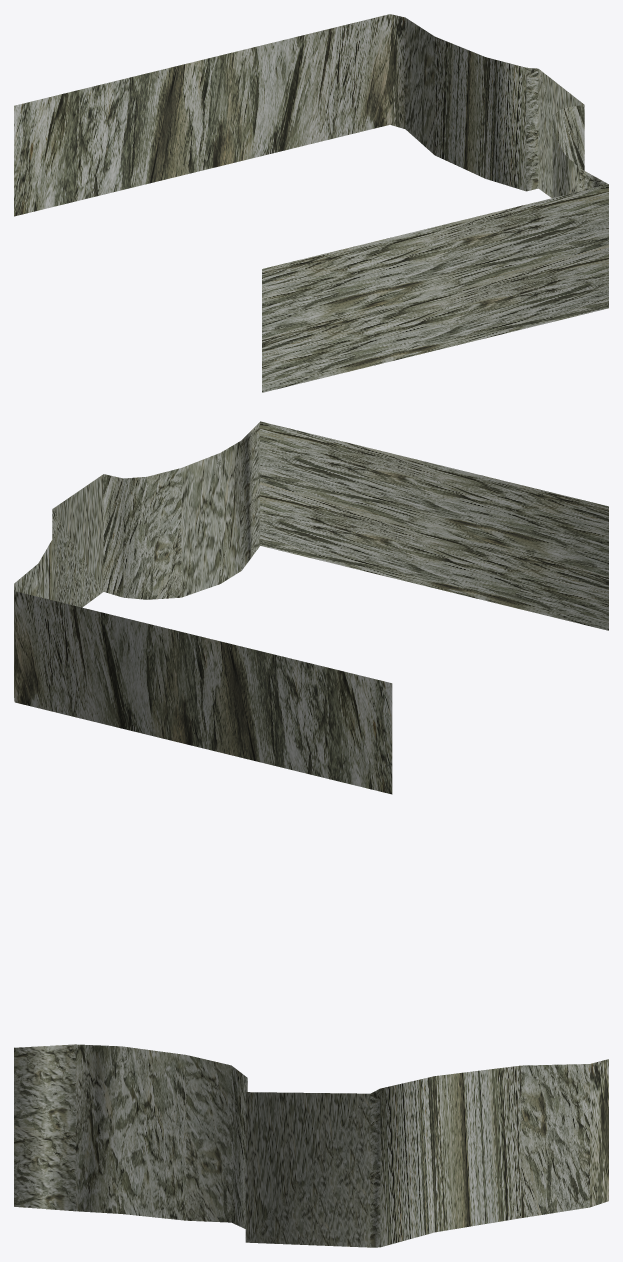
The model's file is SM_Level_PlageTymoes_Rocks00.001.fbx.
The picture shows the model from 3 angles, top to bottom: view 1: azimuth 30°, elevation 25°; view 2: azimuth 150°, elevation 25°; view 3: azimuth 270°, elevation 25°; orthographic projection. The views are drawn at different scales.
Parts seen in each view (by area): view 1: SM_Level_PlageTymoes_Rocks00.001; view 2: SM_Level_PlageTymoes_Rocks00.001; view 3: SM_Level_PlageTymoes_Rocks00.001.
Part boxes in pixels (bbox=[...]): SM_Level_PlageTymoes_Rocks00.001: bbox=[14, 14, 608, 392]; SM_Level_PlageTymoes_Rocks00.001: bbox=[14, 421, 608, 794]; SM_Level_PlageTymoes_Rocks00.001: bbox=[14, 1044, 608, 1247].
Bounding box in the file's own units: 9789 × 2831 × 9106.
